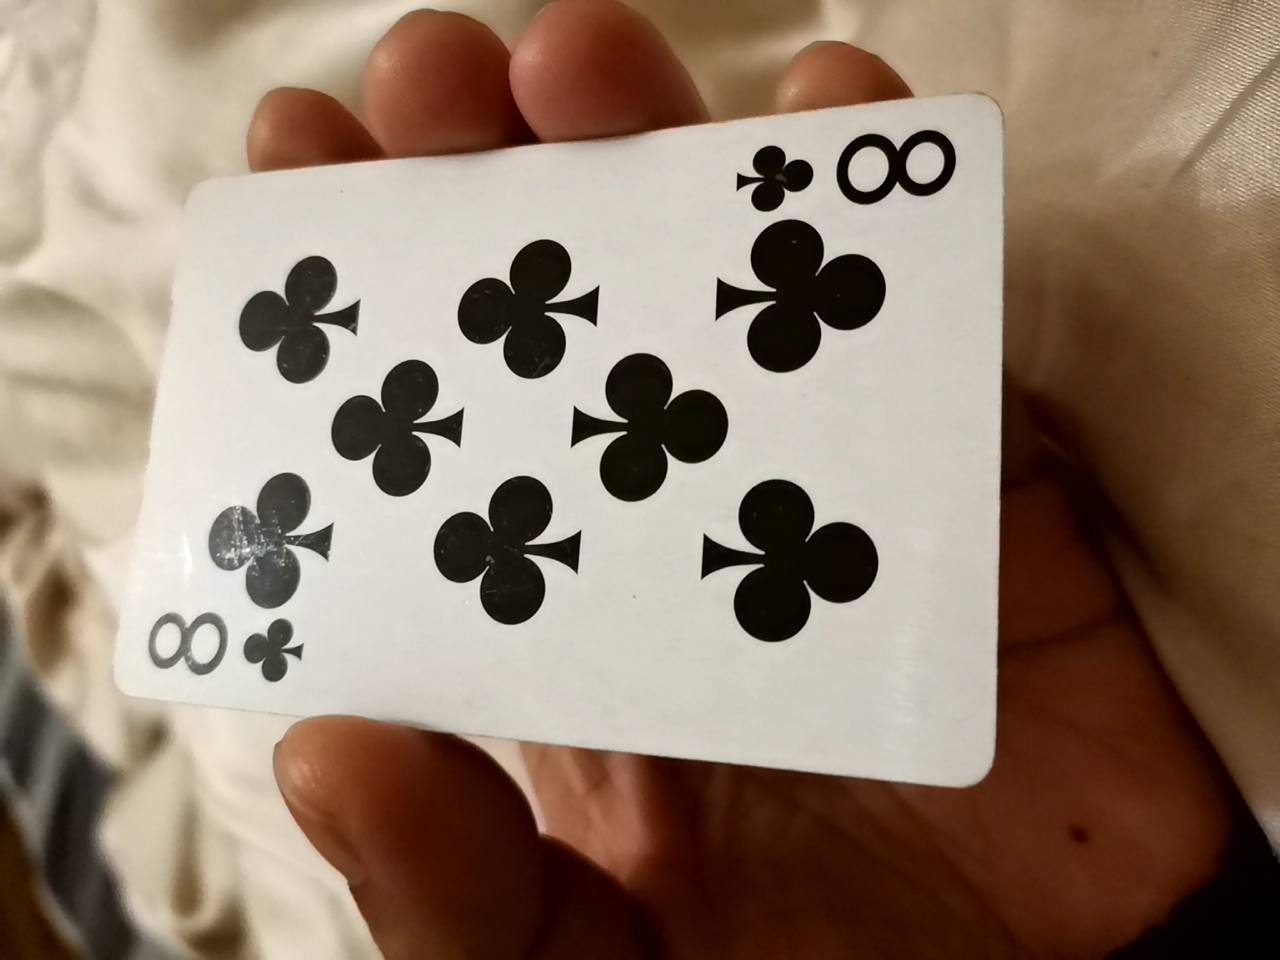mh 8: (137, 90, 1033, 799)
